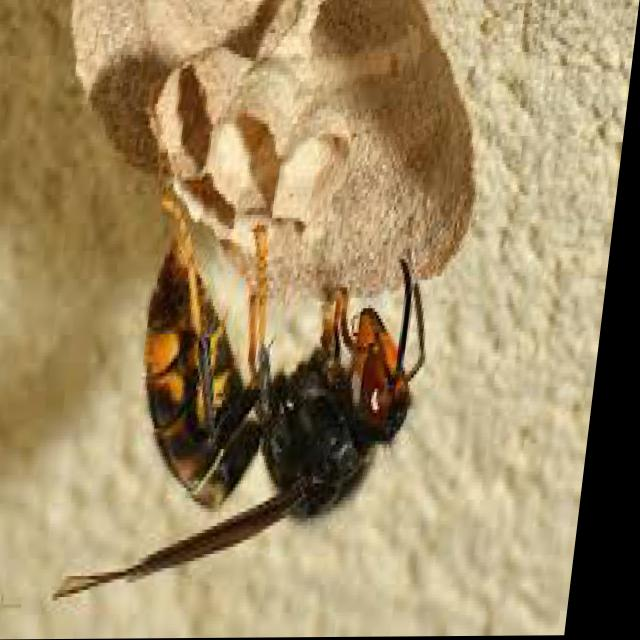Vespa Velutina: (54, 189, 454, 623)
